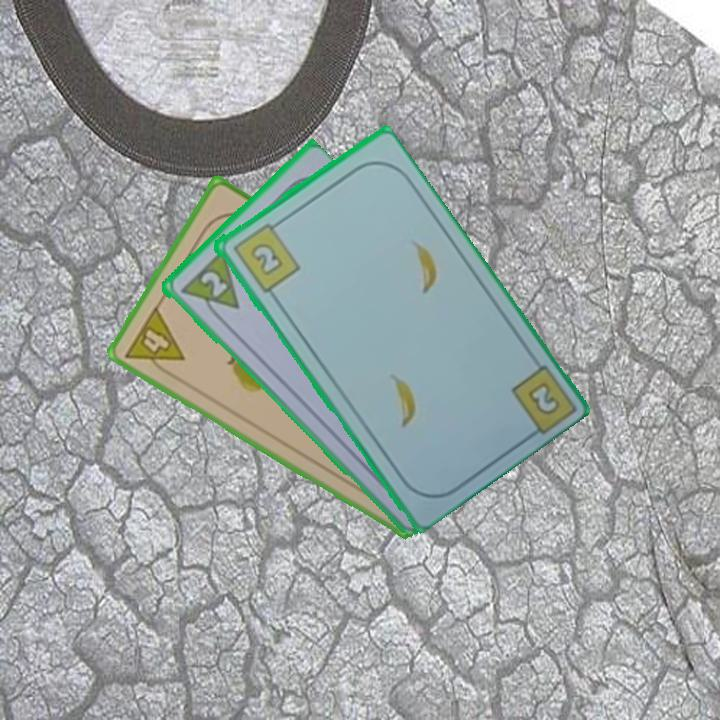2b: (228, 217, 302, 296), (523, 378, 563, 419)
2p: (196, 267, 230, 300)
4p: (120, 302, 188, 381)
